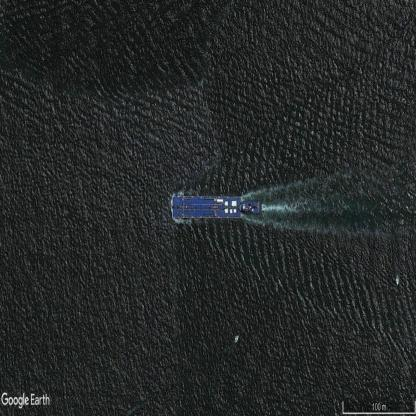ship: (172, 196, 260, 219)
